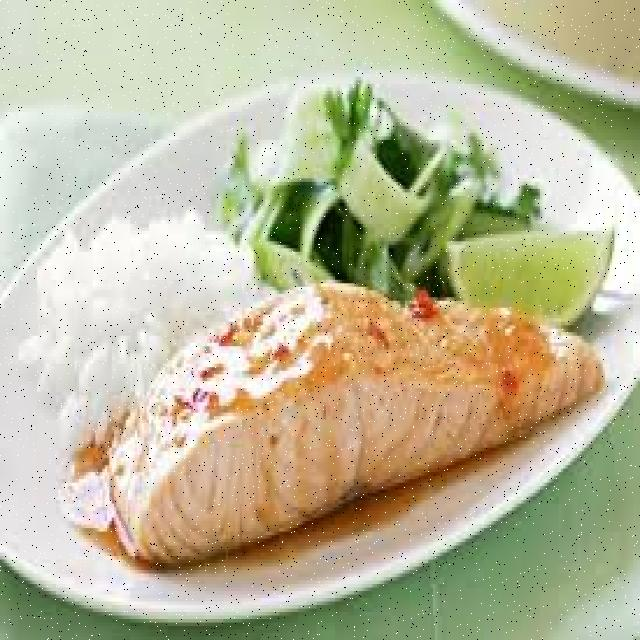Fish: (74, 283, 600, 560)
Green veg: (221, 80, 538, 297), (447, 227, 612, 322)
Rice: (19, 210, 265, 444)
